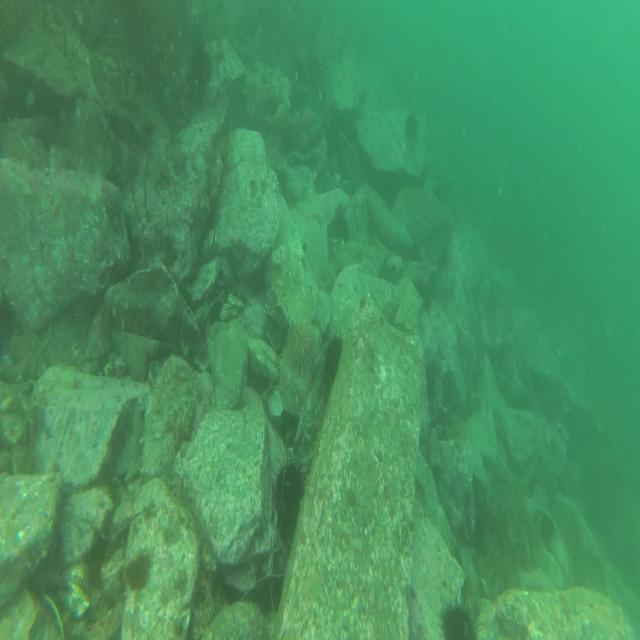echinus: (280, 318, 324, 378), (436, 591, 480, 640), (272, 457, 306, 509), (322, 331, 347, 385), (403, 108, 422, 143)
